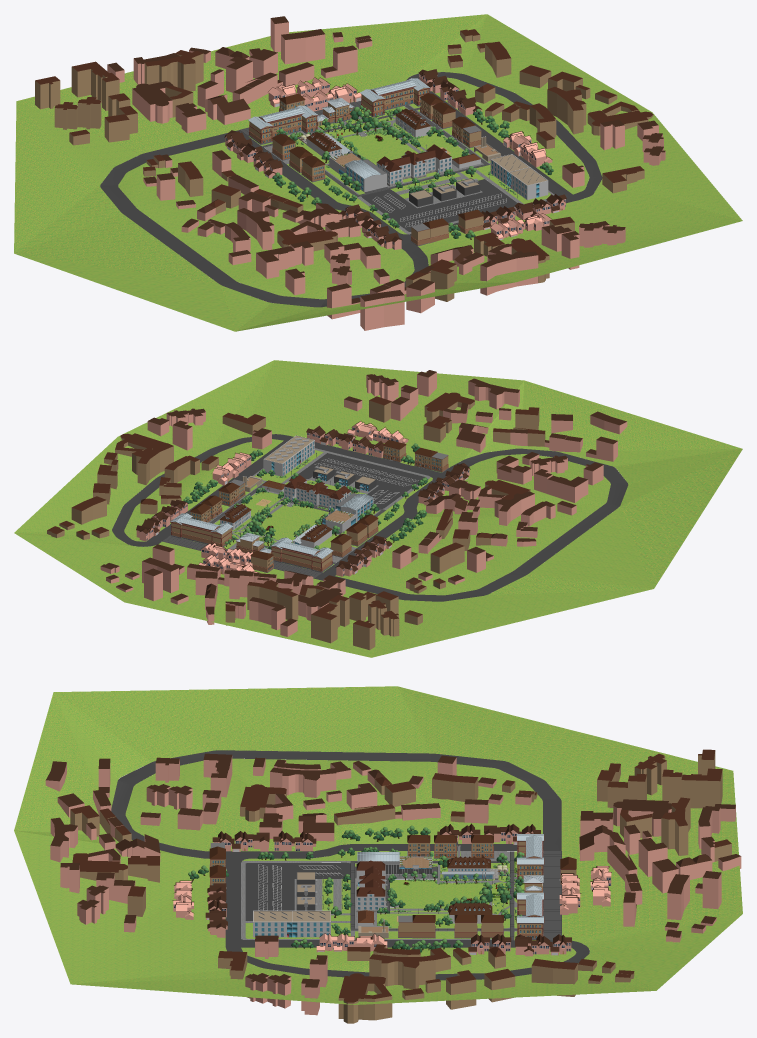
3 views of the same model, one above another, from view 1: azimuth 30°, elevation 25°; view 2: azimuth 150°, elevation 25°; view 3: azimuth 270°, elevation 25° (orthographic). The views are drawn at different scales.
Visible parts, largest first — view 1: Ground, Blocks, Blocks.002, CampusBuildings.005, CityBuildings.002, CityBuildings, CityBuildings.003, CityBuildings.004, Main, Studentenwohnheim, Trees, CampusBuildings.002 (+3 smaller); view 2: Ground, Blocks, Blocks.002, CampusBuildings.005, CityBuildings.002, CityBuildings, CityBuildings.004, CityBuildings.003, Main, Studentenwohnheim, CampusBuildings.002, CampusBuildings.004 (+2 smaller); view 3: Ground, Blocks, Blocks.002, CampusBuildings.005, CityBuildings.003, CityBuildings.004, Studentenwohnheim, CityBuildings.002, CampusBuildings.002, CityBuildings, Trees, Main (+2 smaller).
Boxes of the visible parts, x1,y1,x2,y2 form: Ground: [14, 14, 742, 331]; Blocks: [107, 16, 665, 330]; Blocks.002: [35, 29, 653, 301]; CampusBuildings.005: [240, 78, 430, 193]; CityBuildings.002: [481, 131, 566, 229]; CityBuildings: [224, 83, 361, 178]; CityBuildings.003: [268, 69, 481, 115]; CityBuildings.004: [340, 204, 551, 249]; Main: [376, 144, 451, 184]; Studentenwohnheim: [490, 154, 548, 199]; Trees: [276, 105, 402, 162]; CampusBuildings.002: [420, 93, 481, 148]; Ground: [14, 360, 742, 657]; Blocks: [100, 370, 627, 636]; Blocks.002: [47, 392, 545, 649]; CampusBuildings.005: [162, 504, 378, 578]; CityBuildings.002: [212, 425, 383, 485]; CityBuildings: [200, 535, 392, 576]; CityBuildings.004: [347, 421, 470, 505]; CityBuildings.003: [136, 499, 259, 574]; Main: [284, 475, 351, 509]; Studentenwohnheim: [263, 435, 314, 476]; CampusBuildings.002: [190, 479, 245, 522]; CampusBuildings.004: [382, 440, 448, 472]; Ground: [14, 686, 742, 1004]; Blocks: [45, 753, 741, 1015]; Blocks.002: [70, 749, 731, 1023]; CampusBuildings.005: [355, 834, 576, 940]; CityBuildings.003: [468, 866, 611, 956]; CityBuildings.004: [172, 831, 316, 919]; Studentenwohnheim: [253, 910, 330, 937]; CityBuildings.002: [205, 883, 387, 952]; CampusBuildings.002: [398, 915, 503, 938]; CityBuildings: [437, 823, 581, 914]; Trees: [402, 852, 524, 921]; Main: [356, 860, 385, 909].
Bounding box in the file's own units: 654 × 50.51 × 623.
Materials: 17 (14 with a texture image).
